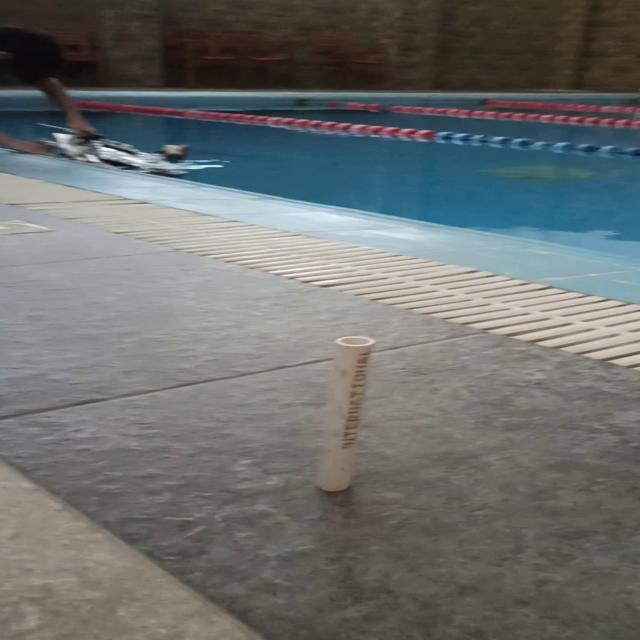Cube: (313, 334, 376, 492)
